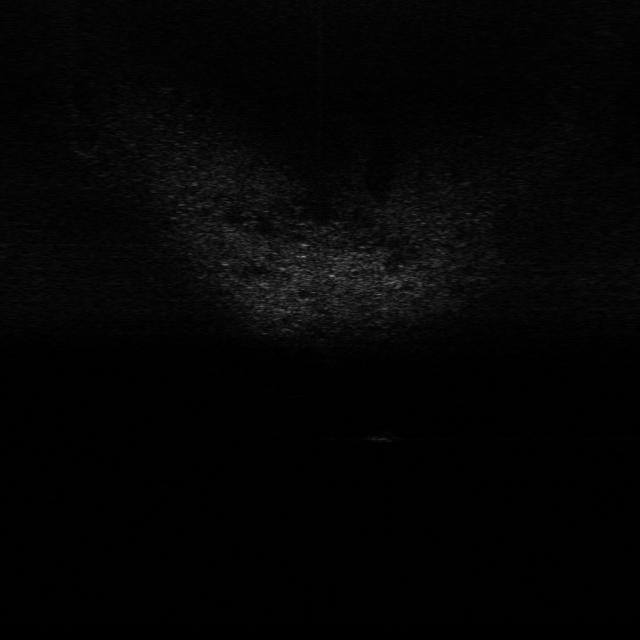cube: (366, 427, 400, 446)
